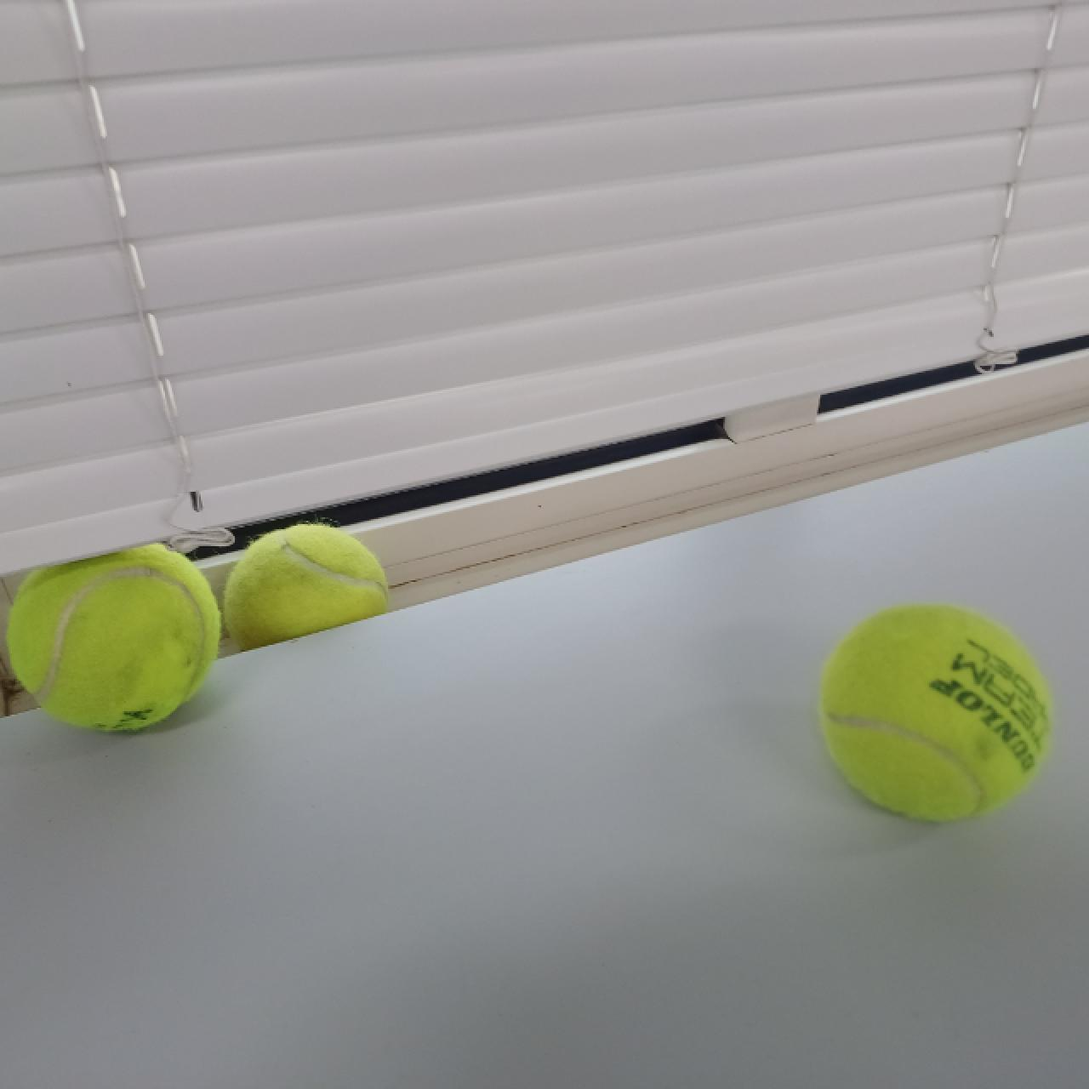tennis-ball: (818, 605, 1053, 821), (6, 531, 221, 738), (221, 517, 396, 670)
